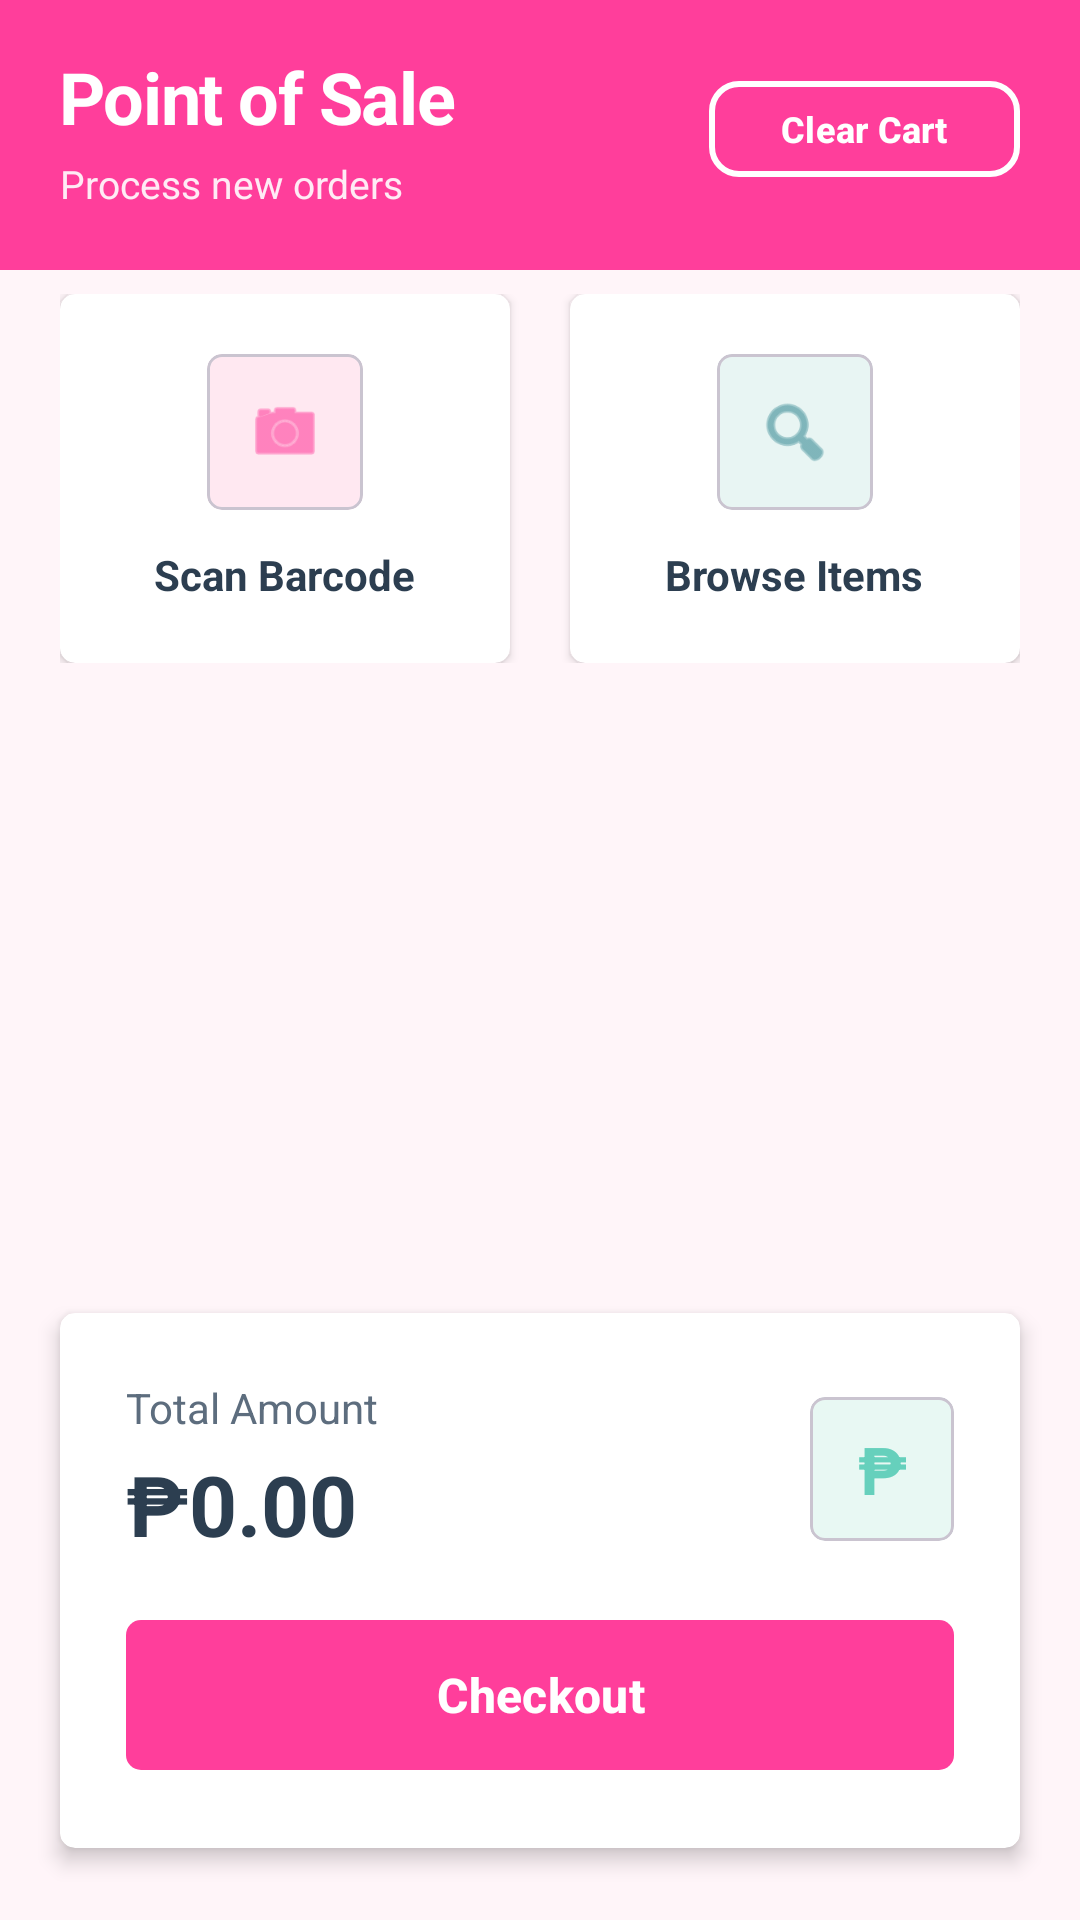

Icon bounding boxes for this 1080 × 1920 phone screenshot, format [x1=x1, y1=y1, x2=x2, y2=y2]:
camera: [x1=255, y1=407, x2=315, y2=455]
search: [x1=766, y1=403, x2=824, y2=461]
